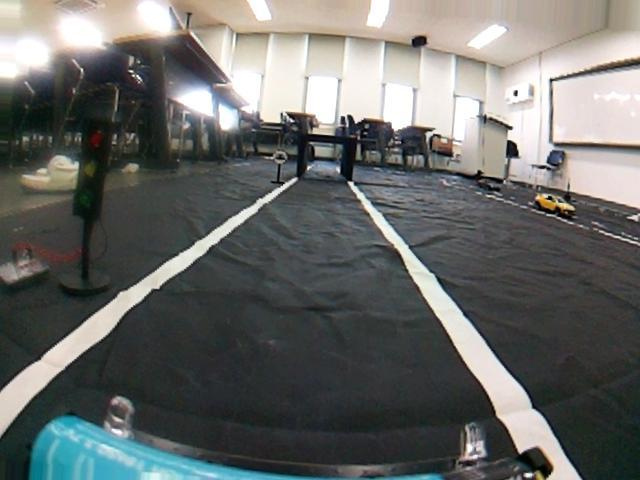green_light: (61, 122, 115, 218)
straight: (1, 224, 640, 475)
